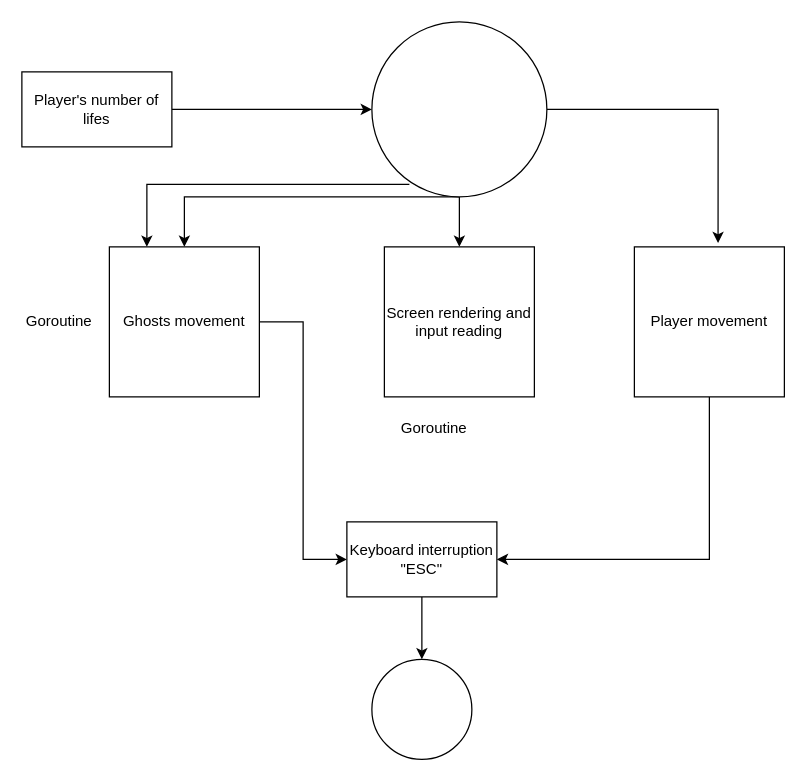
Some shapes in this 806 by 781 pixel diagram are drawn without their labels. The centre of each missing label's shape, as x and y in pixels:
"End" goes at (x=421, y=708).
"Program start" goes at (x=459, y=109).
